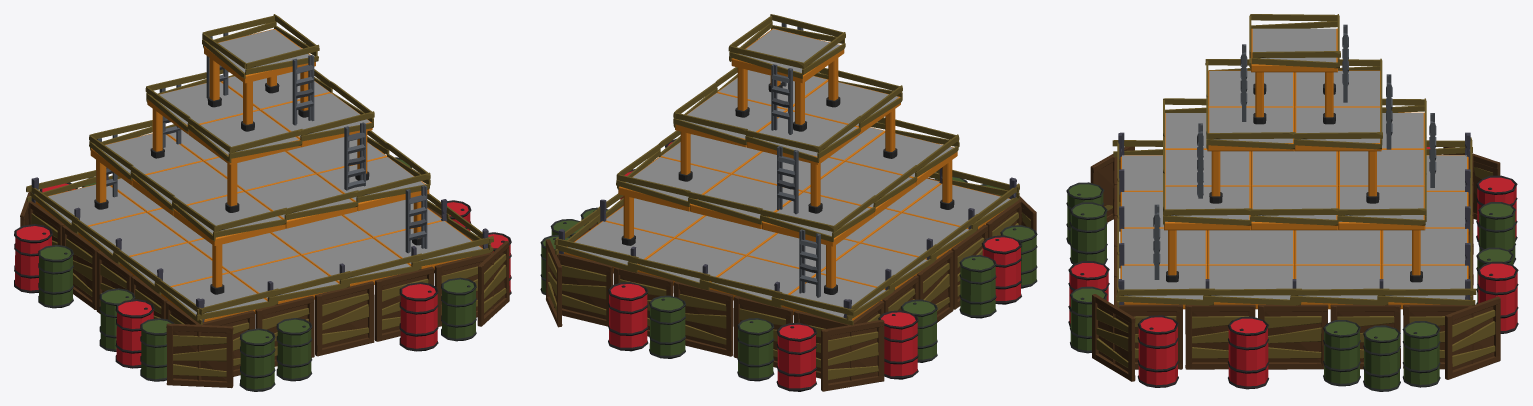
The model's file is BigBunker 1.fbx.
3 views of the same model, side by side, from view 1: azimuth 30°, elevation 25°; view 2: azimuth 150°, elevation 25°; view 3: azimuth 270°, elevation 25° (orthographic). The views are drawn at different scales.
Parts seen in each view (by area): view 1: BigBunker.021; view 2: BigBunker.021; view 3: BigBunker.021.
Boxes of the visible parts, left/top/right/bottom form: BigBunker.021: left=14, top=14, right=511, bottom=391; BigBunker.021: left=540, top=14, right=1037, bottom=391; BigBunker.021: left=1066, top=14, right=1518, bottom=391.
Bounding box in the file's own units: 4.56 × 2.86 × 4.49.
11 materials, 1 textured.
